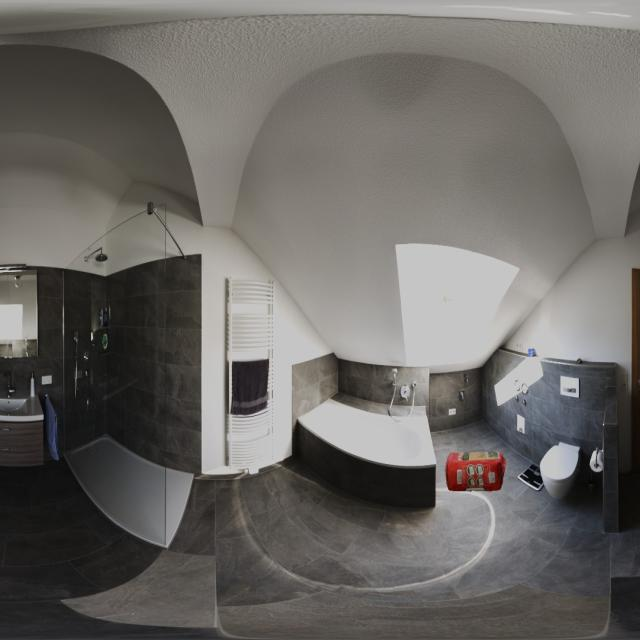mate bag: (444, 445, 505, 492)
